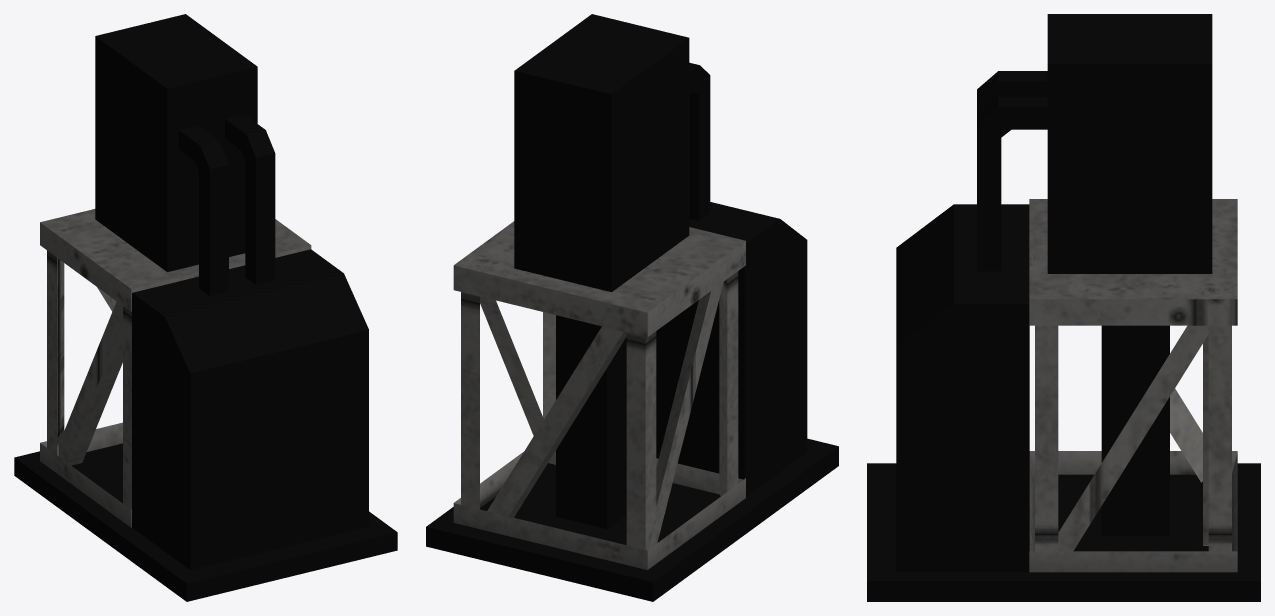
The model's file is p6_ship_engine_parts_compressor_lod3.glb.
3 views of the same model, side by side, from view 1: azimuth 30°, elevation 25°; view 2: azimuth 150°, elevation 25°; view 3: azimuth 270°, elevation 25° (orthographic). The views are drawn at different scales.
Parts seen in each view (by area): view 1: surf0; view 2: surf0; view 3: surf0.
Boxes of the visible parts, <box> form: surf0: <box>14,14,397,601</box>; surf0: <box>426,14,838,601</box>; surf0: <box>867,14,1260,601</box>.
Size of the model in its own units: 36 by 71.97 by 51.
